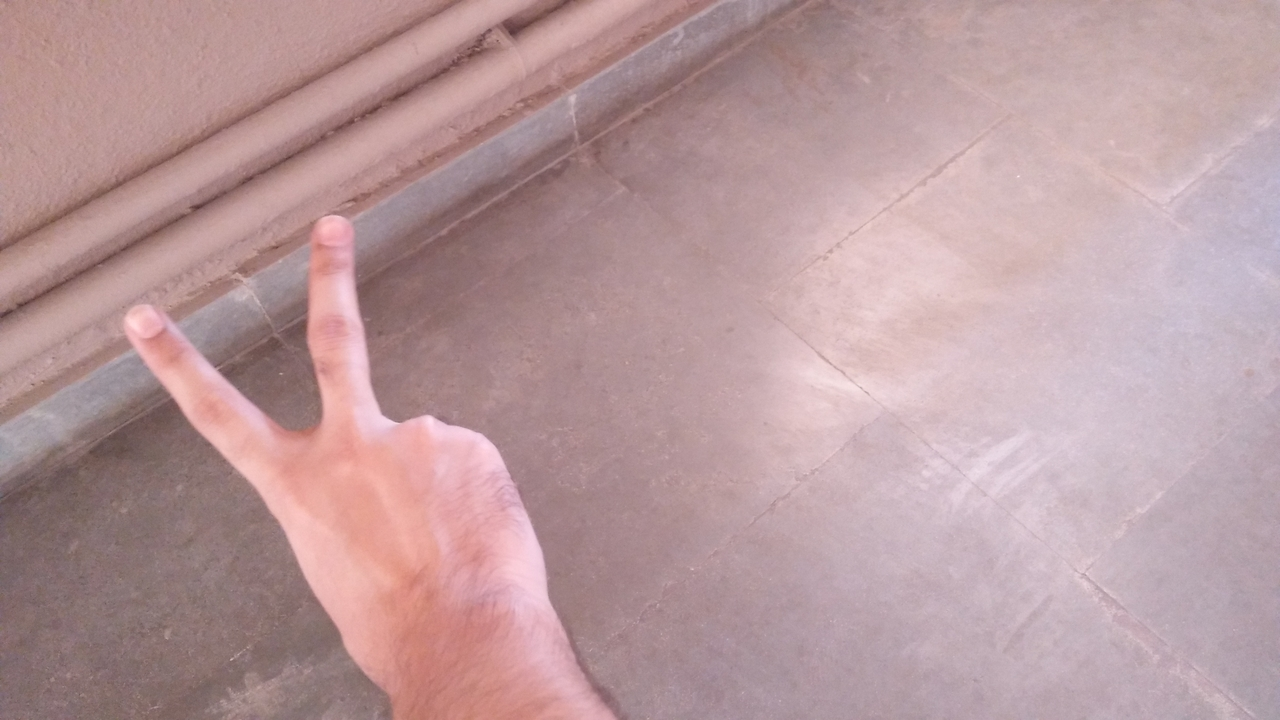fingertip: (116, 300, 176, 350), (300, 206, 354, 260)
